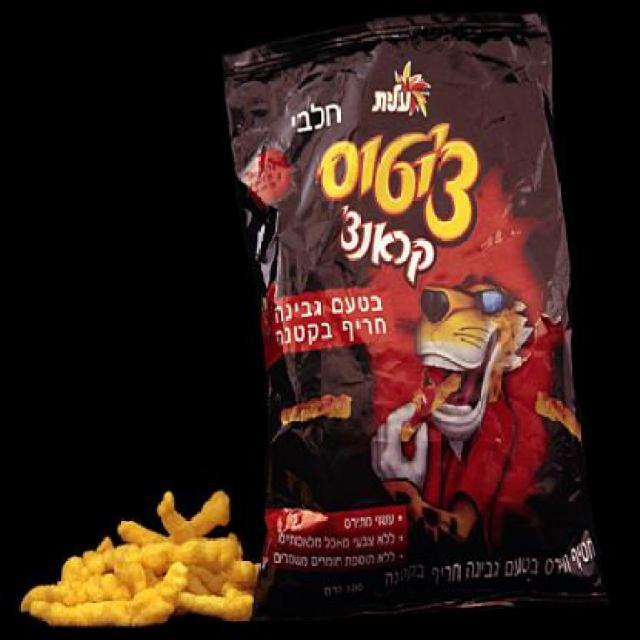Chips: (208, 47, 610, 615)
Chips packaged: (17, 478, 266, 626)
